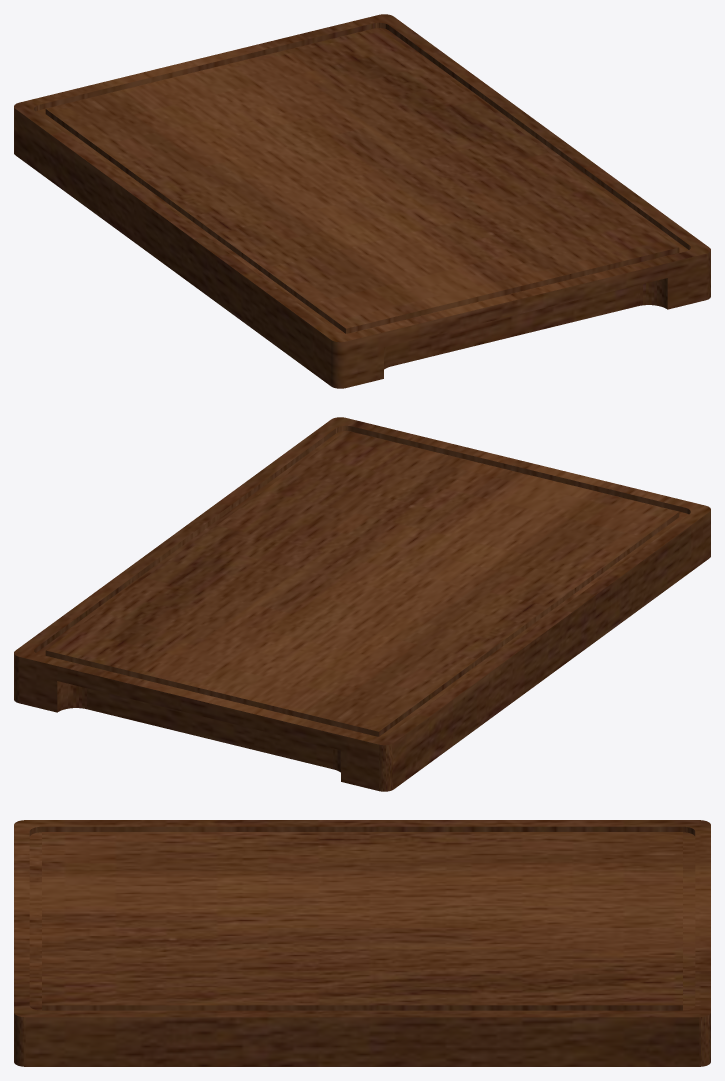
File: tabla-de-picar-puy-talla-m.glb
The picture shows the model from 3 angles, top to bottom: view 1: azimuth 30°, elevation 25°; view 2: azimuth 150°, elevation 25°; view 3: azimuth 270°, elevation 25°; orthographic projection. The views are drawn at different scales.
Bounding box in the file's own units: 0.3 × 0.0352 × 0.4484.
2 materials, 2 textured.
